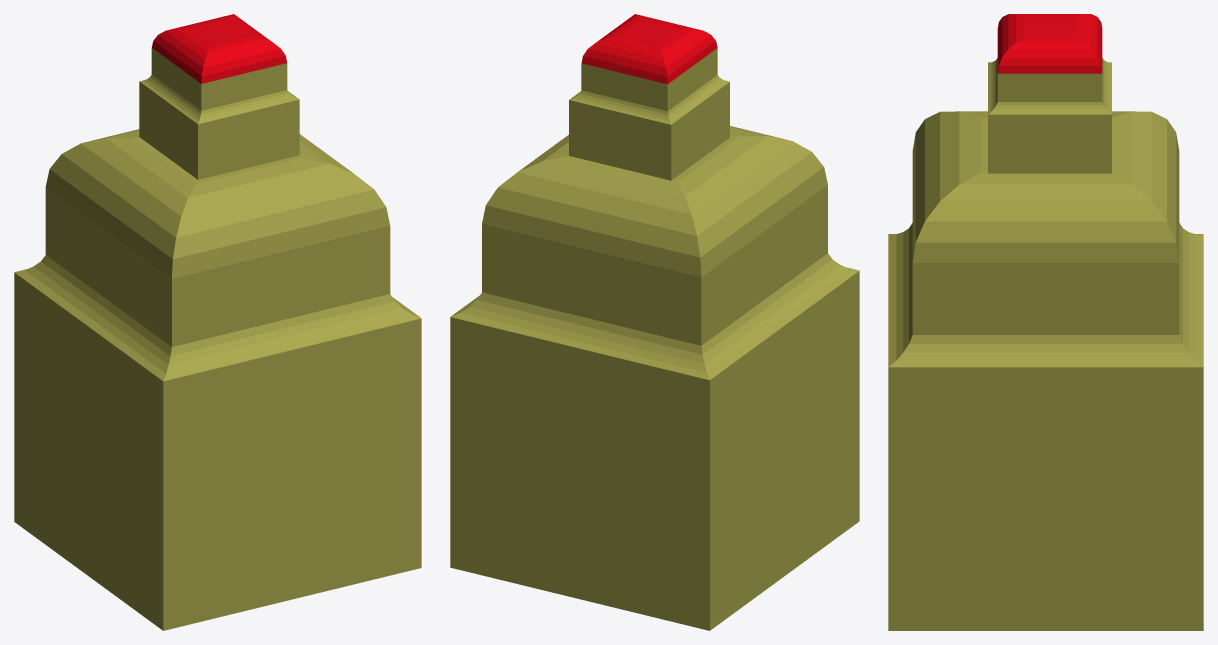
File: testCube.gltf
3 views of the same model, side by side, from view 1: azimuth 30°, elevation 25°; view 2: azimuth 150°, elevation 25°; view 3: azimuth 270°, elevation 25° (orthographic). The views are drawn at different scales.
Visible parts, largest first — view 1: Cube.001; view 2: Cube.001; view 3: Cube.001.
Boxes of the visible parts, box(x1,y1,x2,y2) form: Cube.001: box(14, 14, 421, 630); Cube.001: box(450, 14, 859, 630); Cube.001: box(888, 14, 1203, 630).
Size of the model in its own units: 2 by 3.77 by 2.
